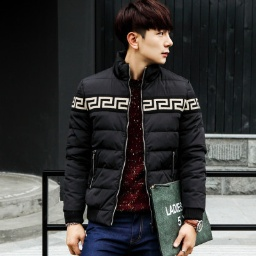face: (116, 1, 173, 67)
